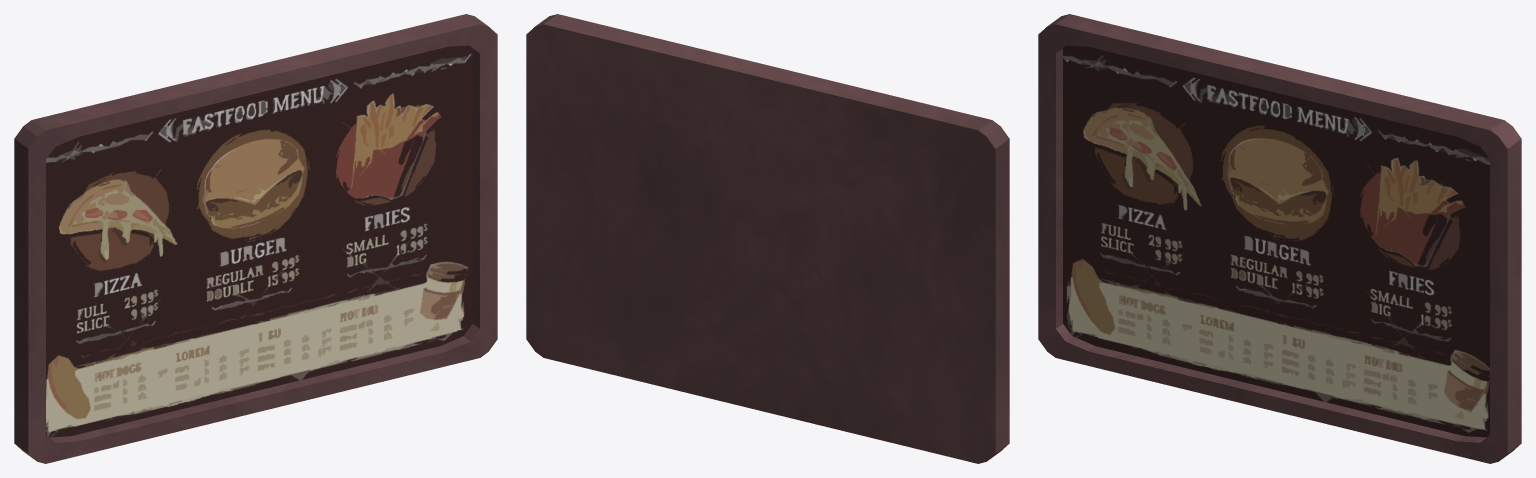
The model's file is Carta.fbx.
3 views of the same model, side by side, from view 1: azimuth 30°, elevation 25°; view 2: azimuth 150°, elevation 25°; view 3: azimuth 330°, elevation 25° (orthographic).
Parts seen in each view (by area): view 1: Carta; view 2: Carta; view 3: Carta.
Part boxes in pixels (x1,y1,x2,y2): Carta: (14, 14, 497, 463); Carta: (526, 14, 1009, 463); Carta: (1038, 14, 1521, 463).
Size of the model in its own units: 192 by 130 by 10.
